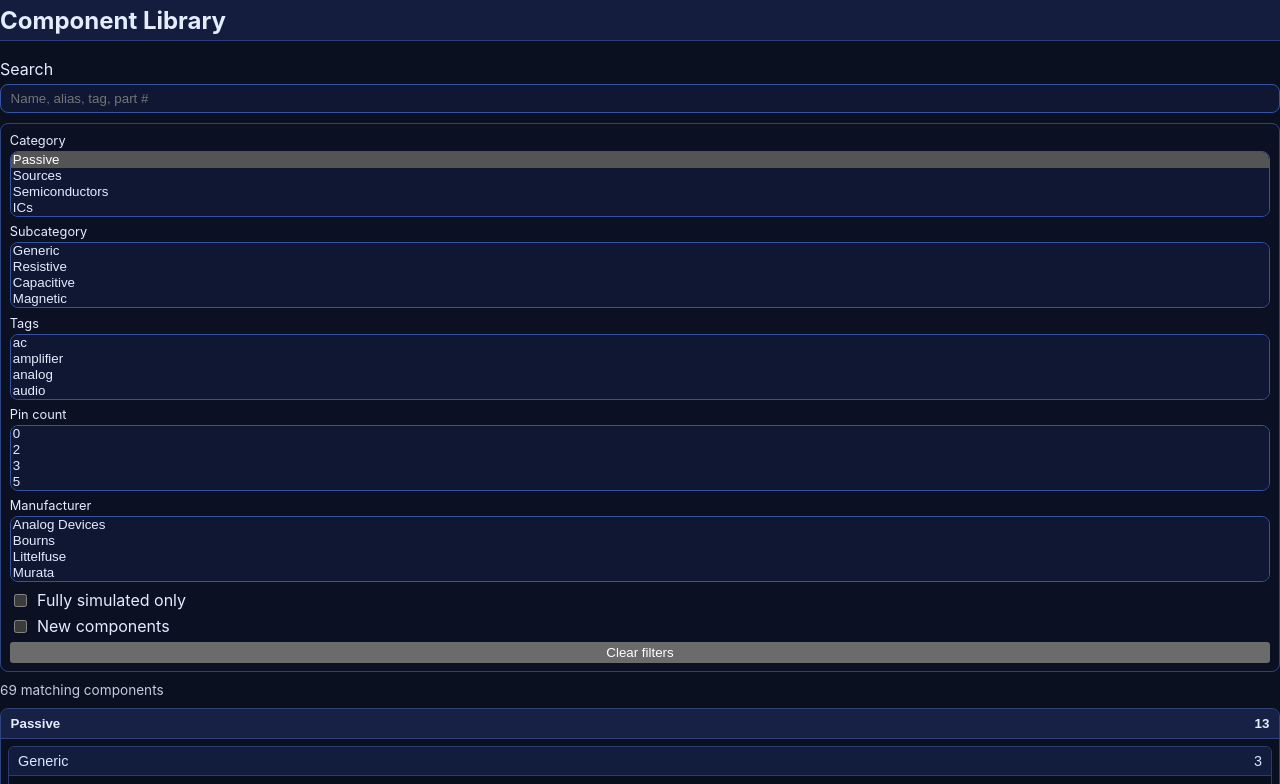
Test case: ComponentLibrarySidebar › renders empty results when filters are mutually exclusive
Select "Passive" in the dropdown named "Category filter" at {"x": 640, "y": 184}, box [10, 151, 1270, 217]
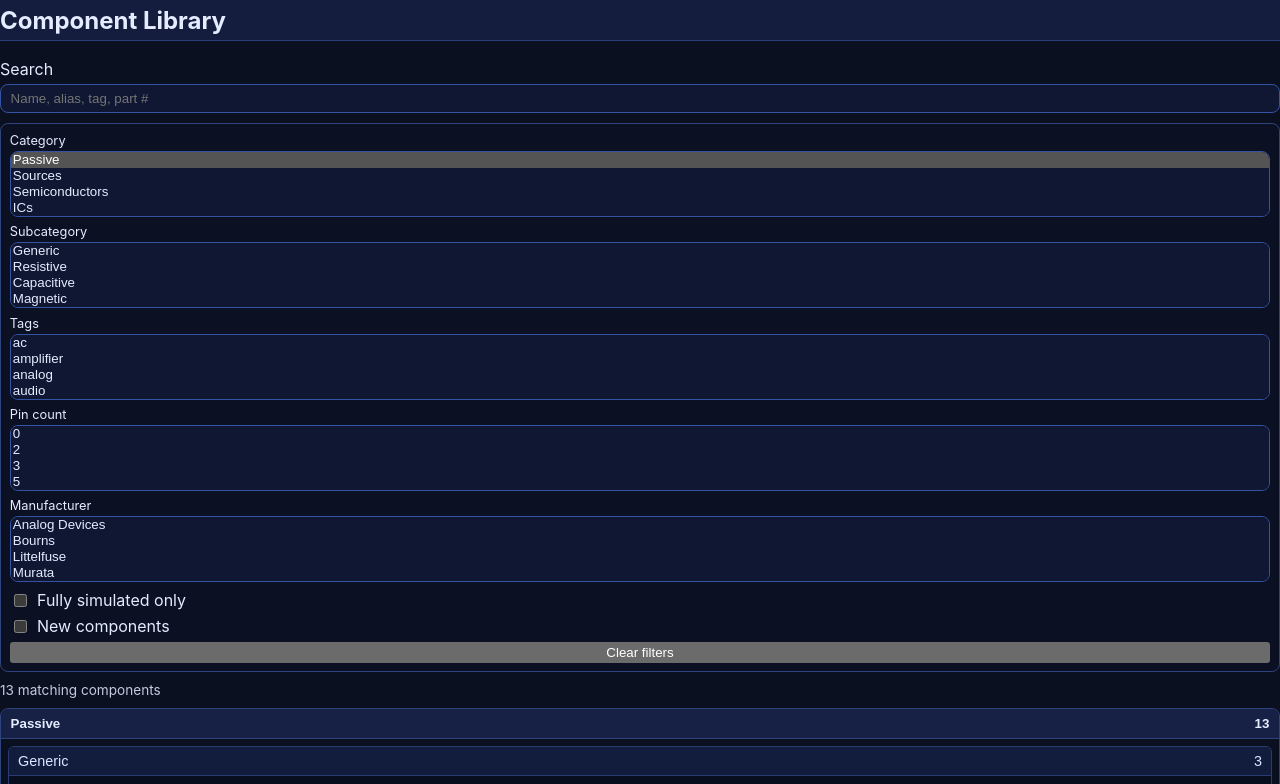
Select "Nexperia" in the dropdown named "Manufacturer filter" at {"x": 640, "y": 549}, box [10, 516, 1270, 582]
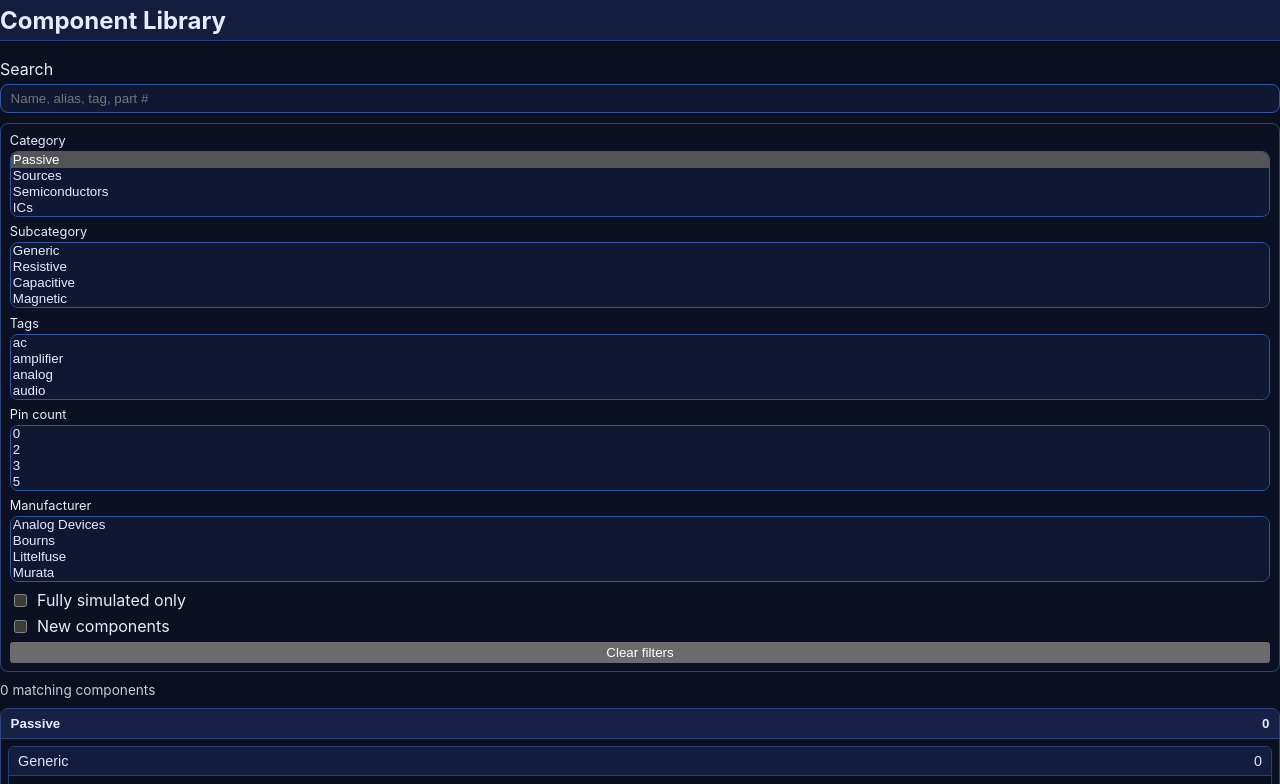
Result: the text "0 matching components" is shown at [0, 682, 155, 698]
